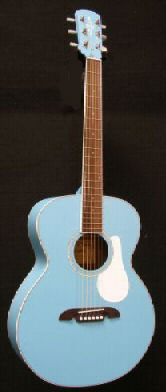guitar: (6, 5, 157, 389)
